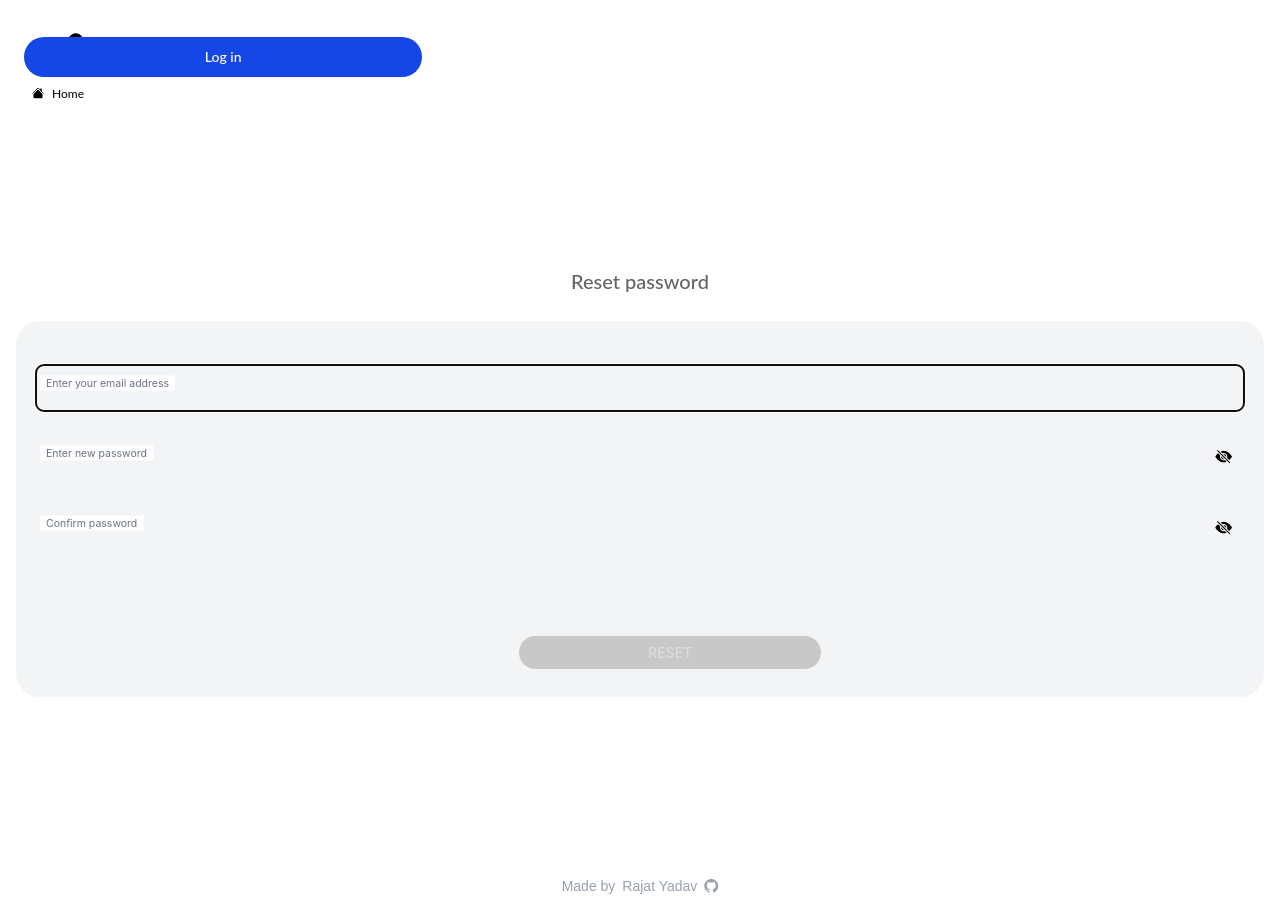
Test: ResetPassword page › handles API errors gracefully
Type "testuser@example.com" into the field labelled "Enter your email address". click: (640, 388)
box: [36, 365, 1244, 411]
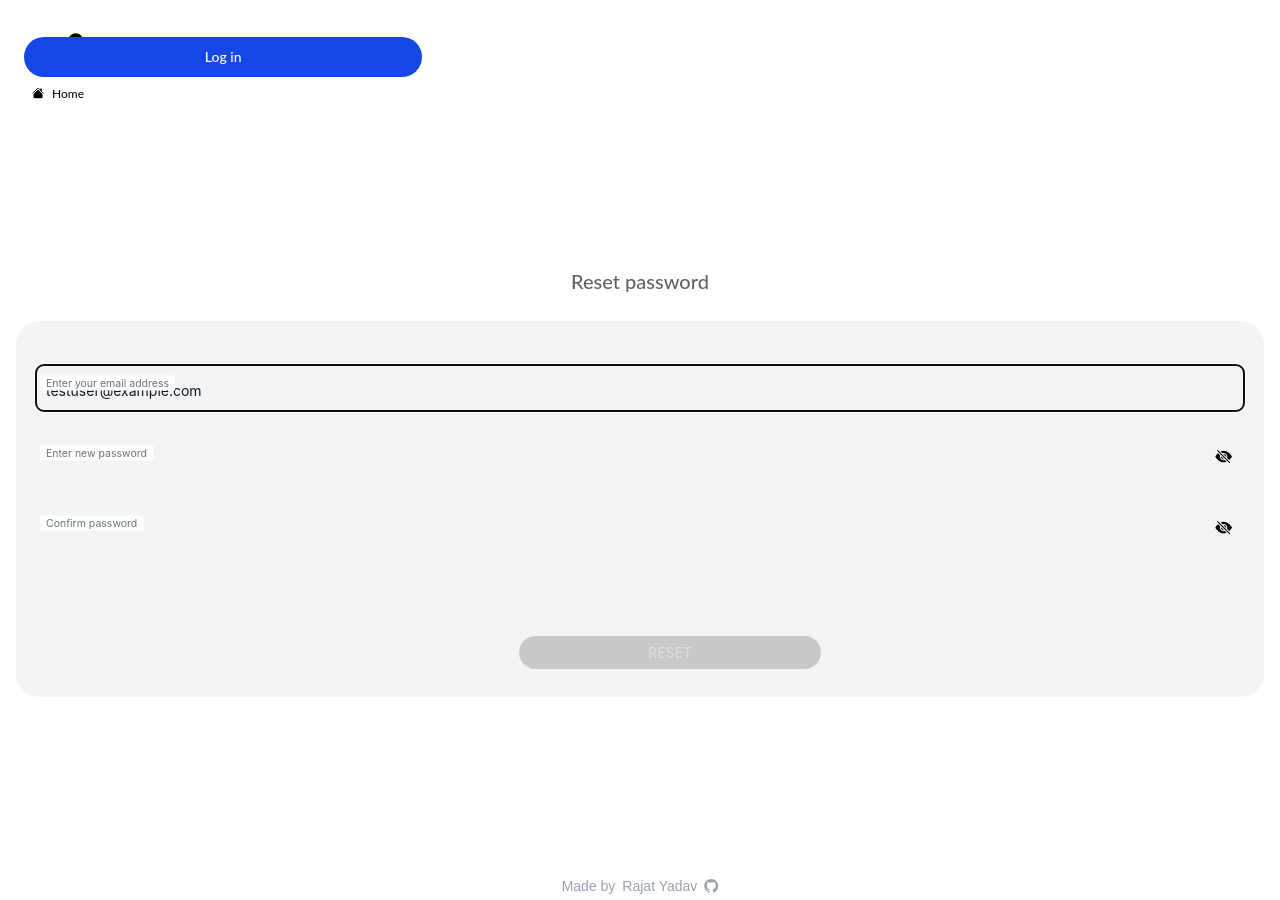
Type "Password.123" into the password field labelled "Enter new password". click: (640, 458)
box: [36, 435, 1244, 481]
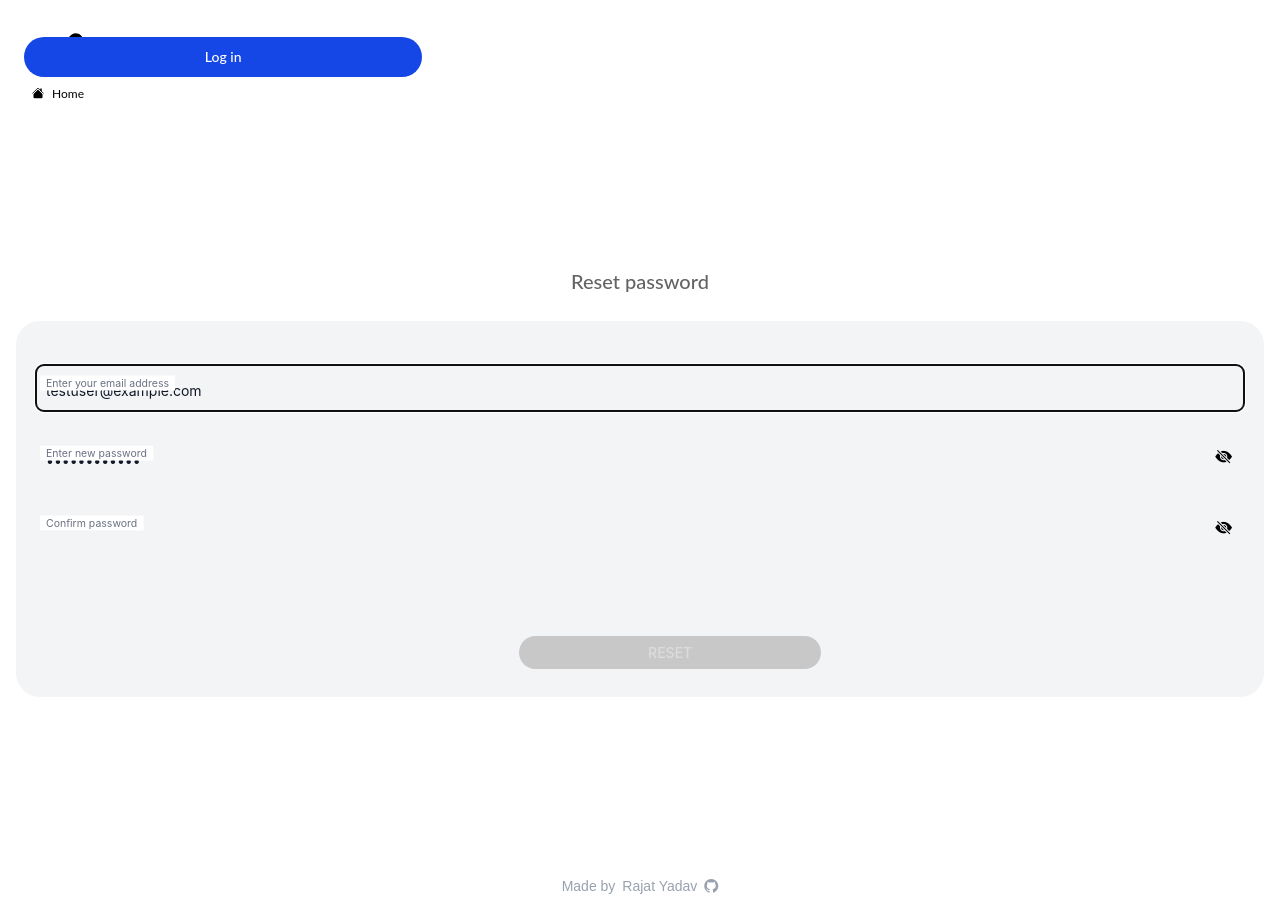
Type "Password.123" into the password field labelled "Confirm password". click: (640, 528)
box: [36, 505, 1244, 551]
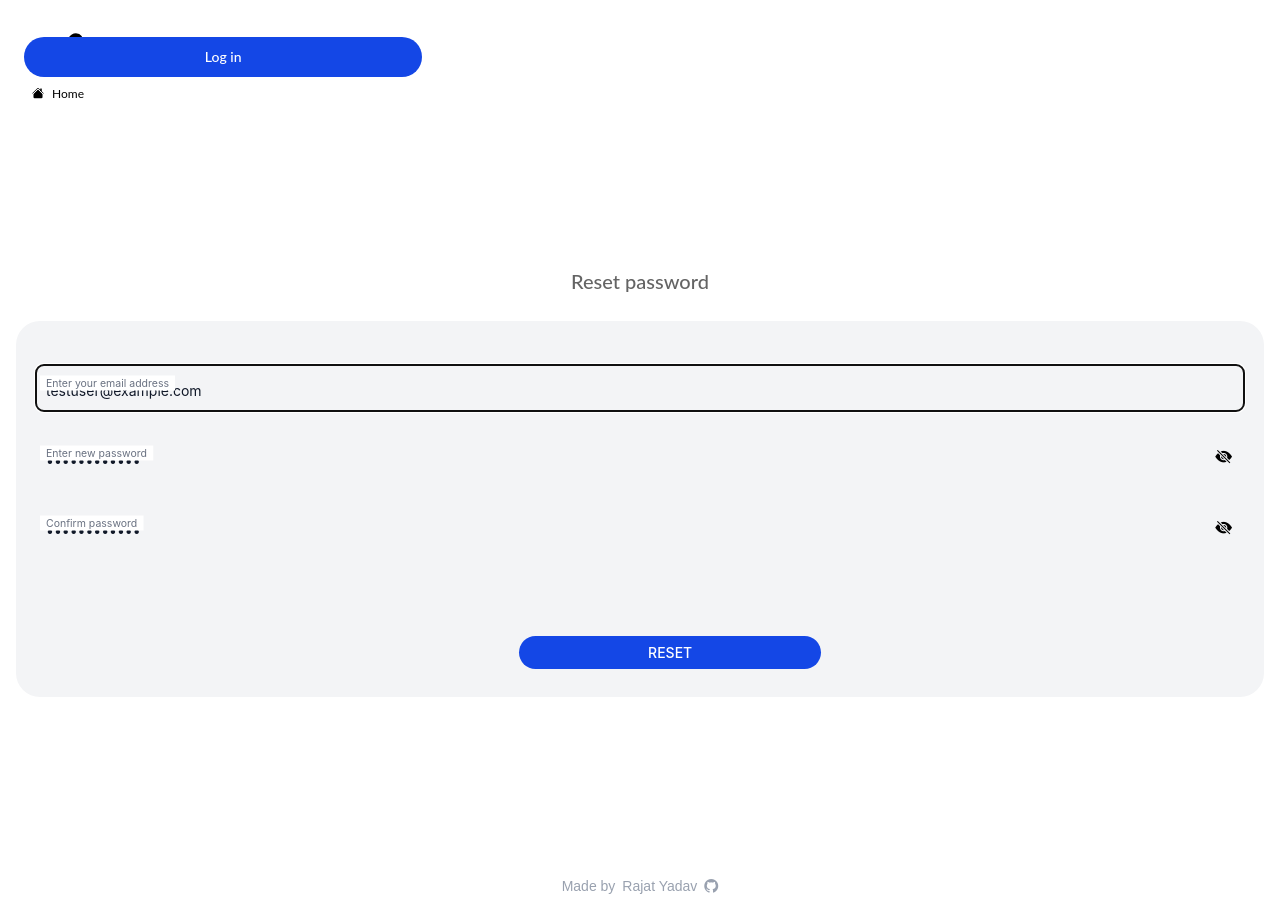
Click the button "RESET". click: (670, 652)
box: [519, 636, 821, 668]
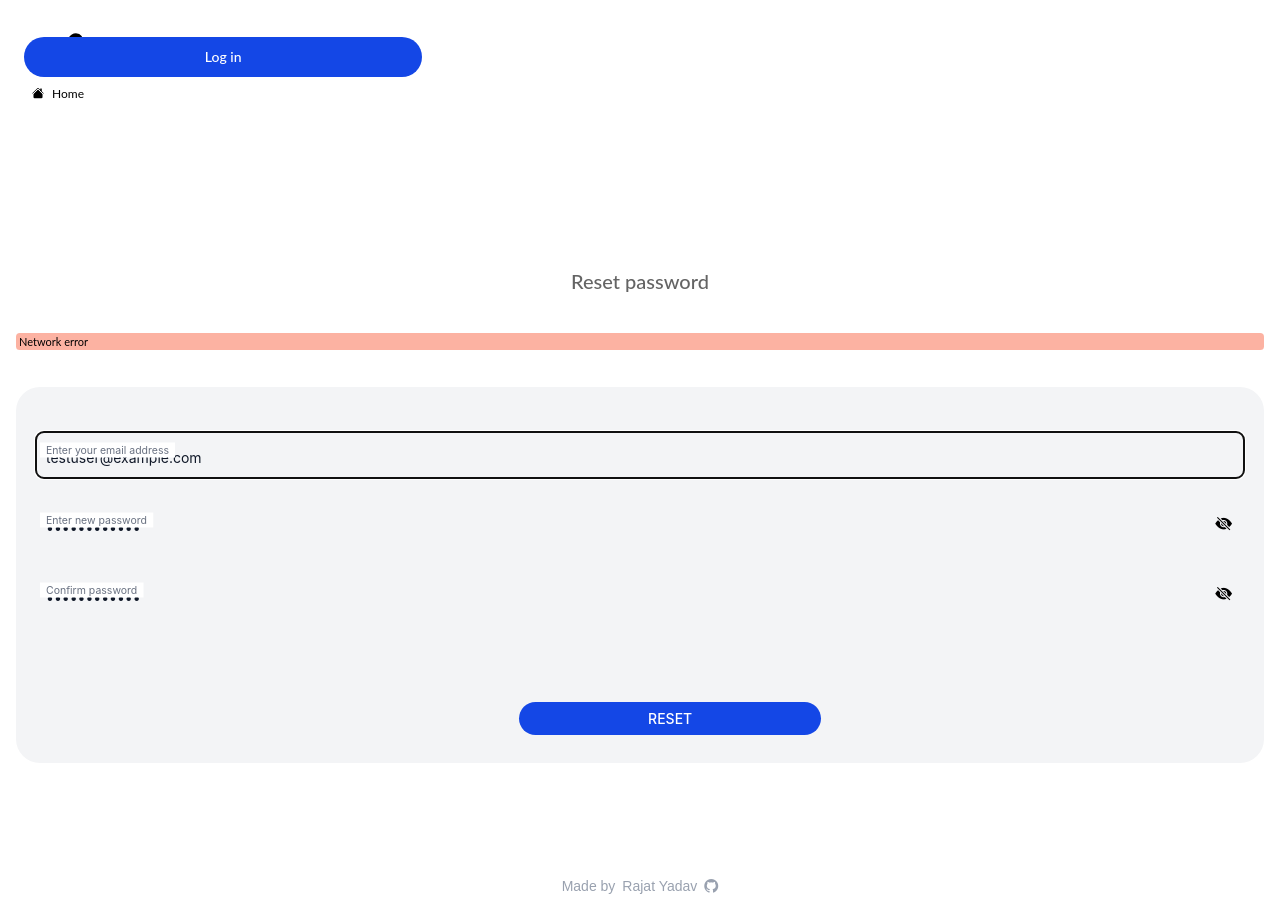
Check: the text "Network error" is shown, box [16, 333, 1264, 350]
